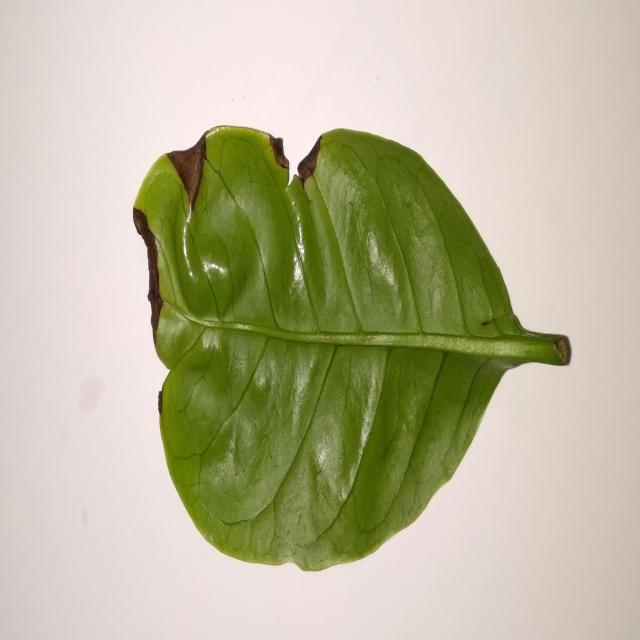Enfermedad-Antracnosis: (130, 126, 572, 575)
